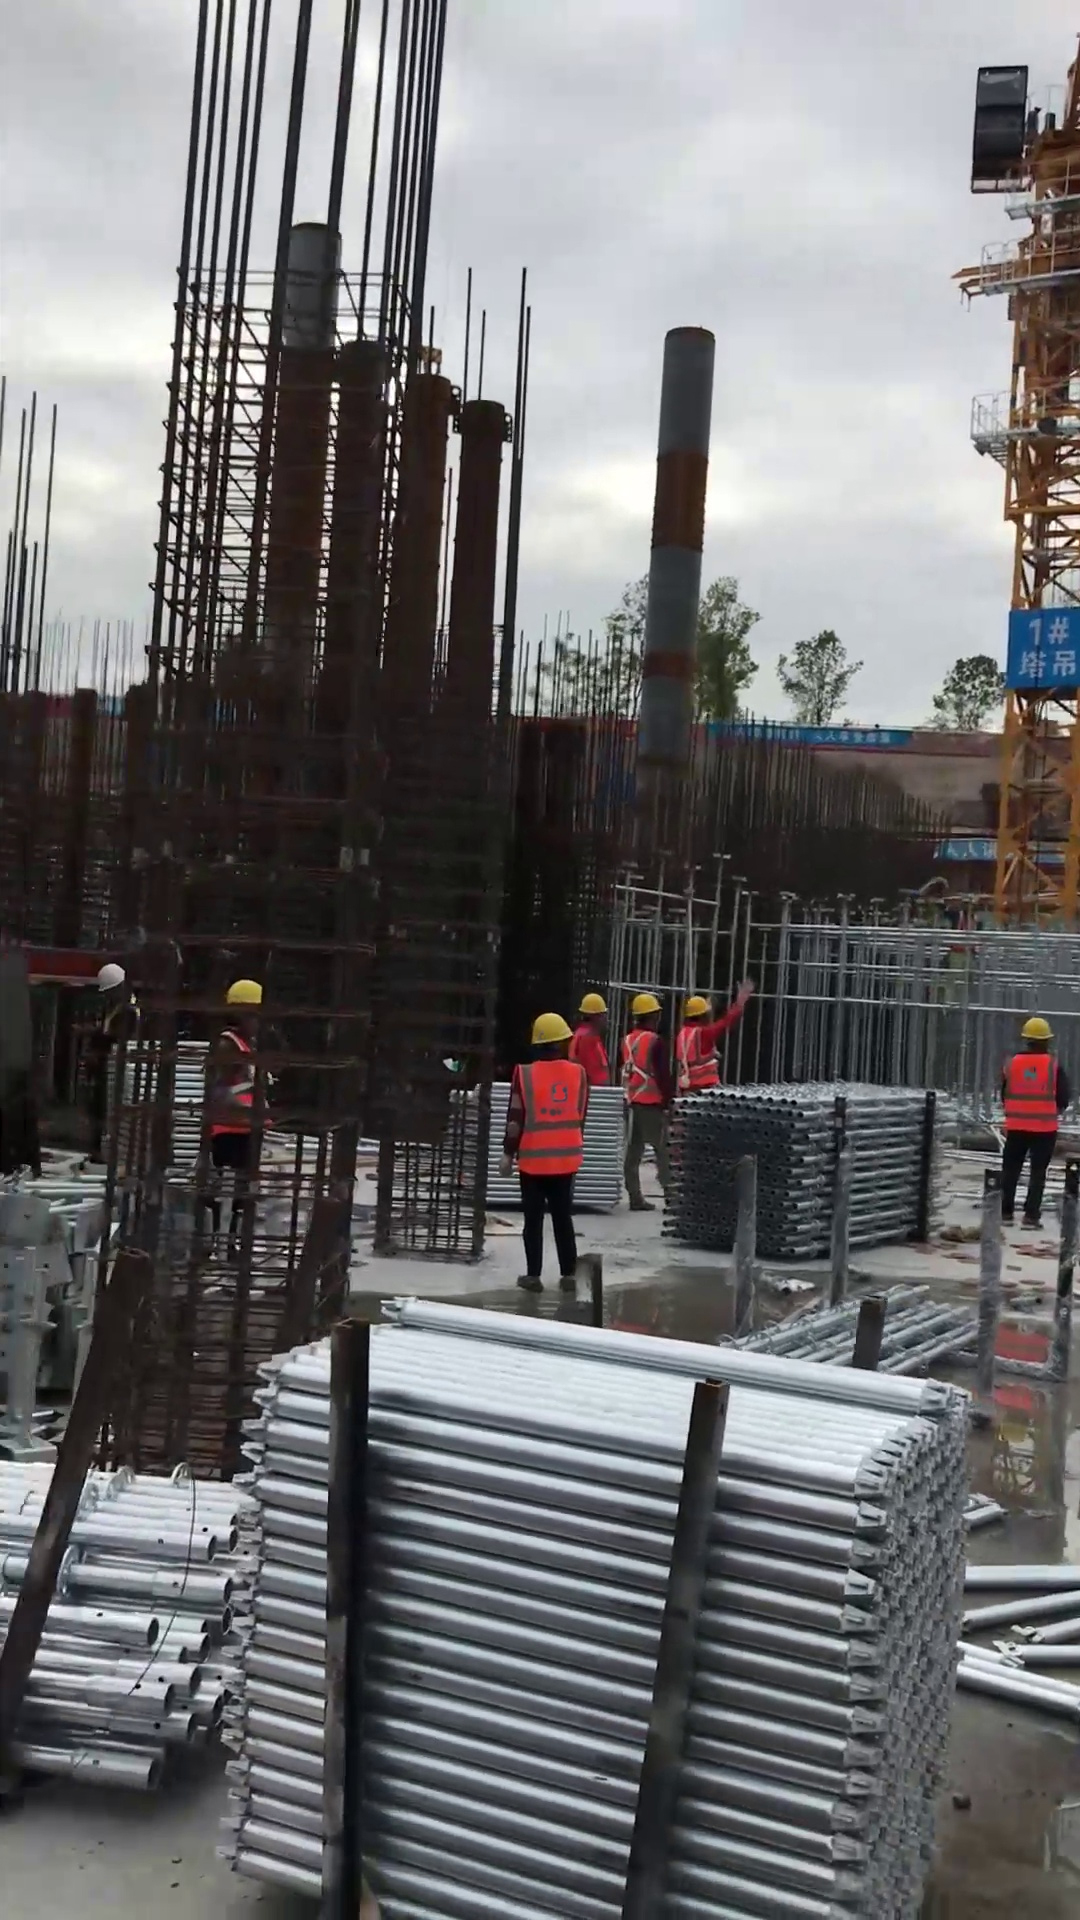helmet: (524, 1004, 580, 1050), (1011, 1007, 1060, 1051), (618, 985, 668, 1022), (675, 990, 718, 1022), (575, 986, 611, 1022)
person: (496, 1006, 597, 1304), (985, 1003, 1080, 1240), (614, 985, 676, 1222), (676, 976, 757, 1103), (568, 982, 615, 1090)
vest: (501, 1056, 594, 1181), (1000, 1046, 1061, 1142), (617, 1025, 668, 1110), (671, 1021, 719, 1092), (569, 1025, 611, 1088)
